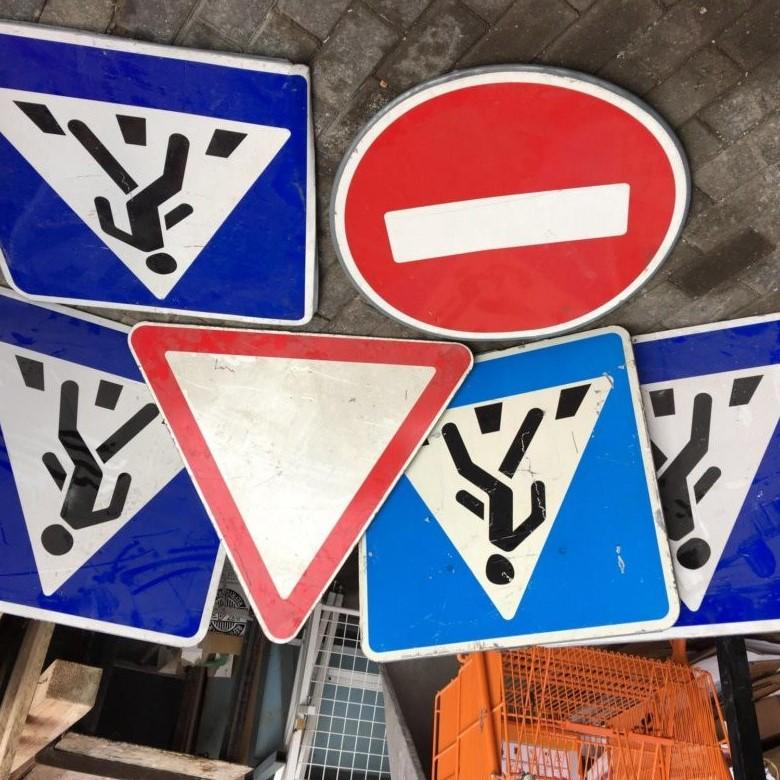obstructed_road_sign: (359, 324, 682, 663), (0, 287, 225, 649), (632, 311, 780, 637)
road_sign: (125, 322, 474, 646), (331, 68, 687, 341), (0, 20, 314, 326)
